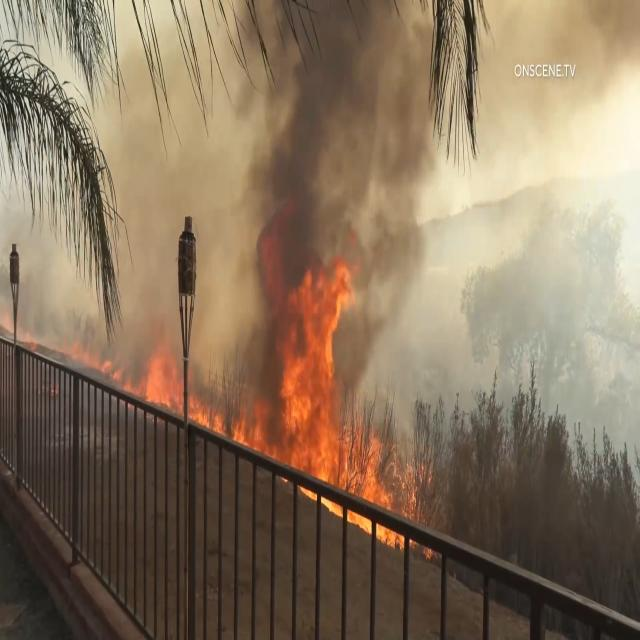fire: (262, 243, 349, 478), (135, 334, 179, 409)
smoke: (282, 55, 423, 223), (497, 2, 633, 52)
